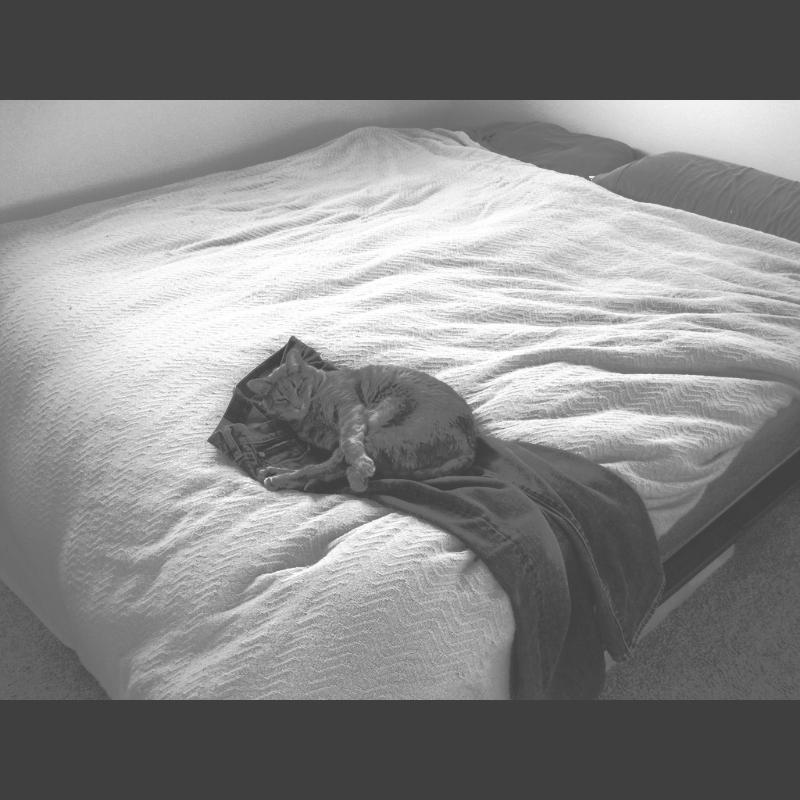pillow: (592, 153, 800, 243)
